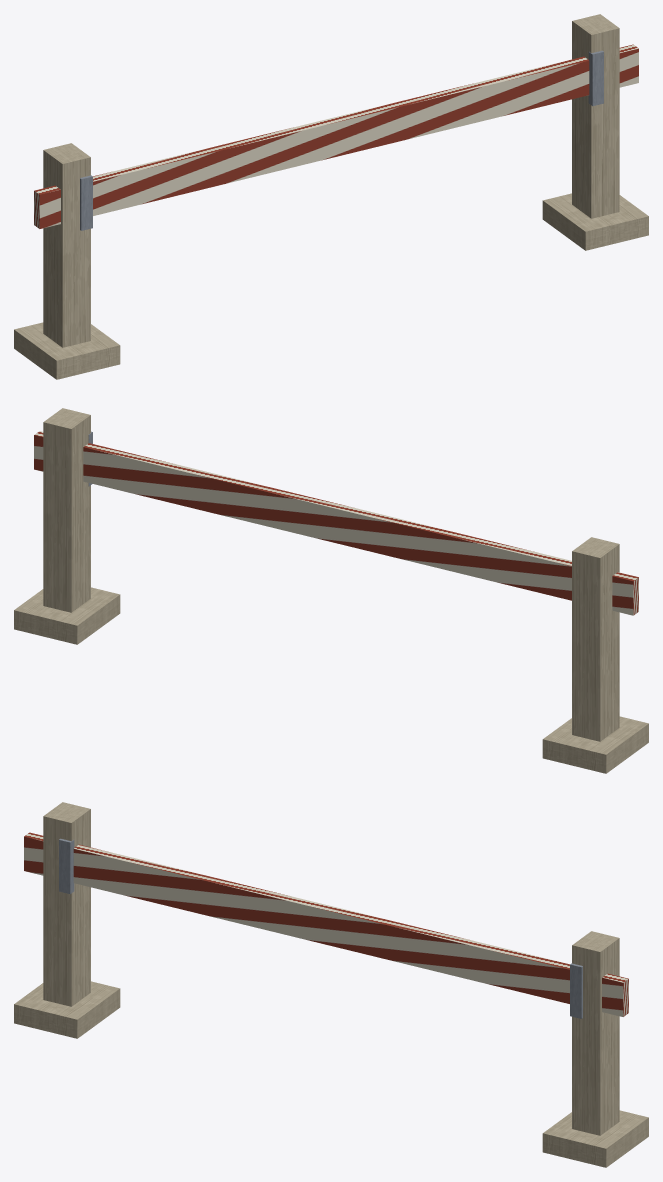
Rendered from road_barrier.glb.
The picture shows the model from 3 angles, top to bottom: view 1: azimuth 30°, elevation 25°; view 2: azimuth 150°, elevation 25°; view 3: azimuth 330°, elevation 25°; orthographic projection.
Parts seen in each view (by area): view 1: outdoor_road_barrier; view 2: outdoor_road_barrier; view 3: outdoor_road_barrier.
Boxes of the visible parts, x1,y1,x2,y2 form: outdoor_road_barrier: [14, 14, 648, 379]; outdoor_road_barrier: [14, 408, 648, 773]; outdoor_road_barrier: [14, 802, 648, 1167].
Size of the model in its own units: 3.4 by 1.1 by 0.42.
Materials: 1 (1 with a texture image).
